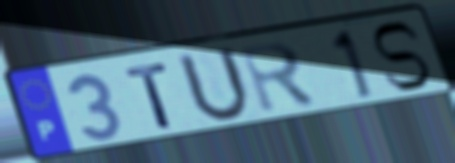1: (329, 27, 378, 101)
3: (65, 70, 125, 143)
R: (236, 38, 321, 117)
S: (369, 19, 434, 93)
T: (122, 60, 177, 132)
U: (174, 45, 254, 126)
